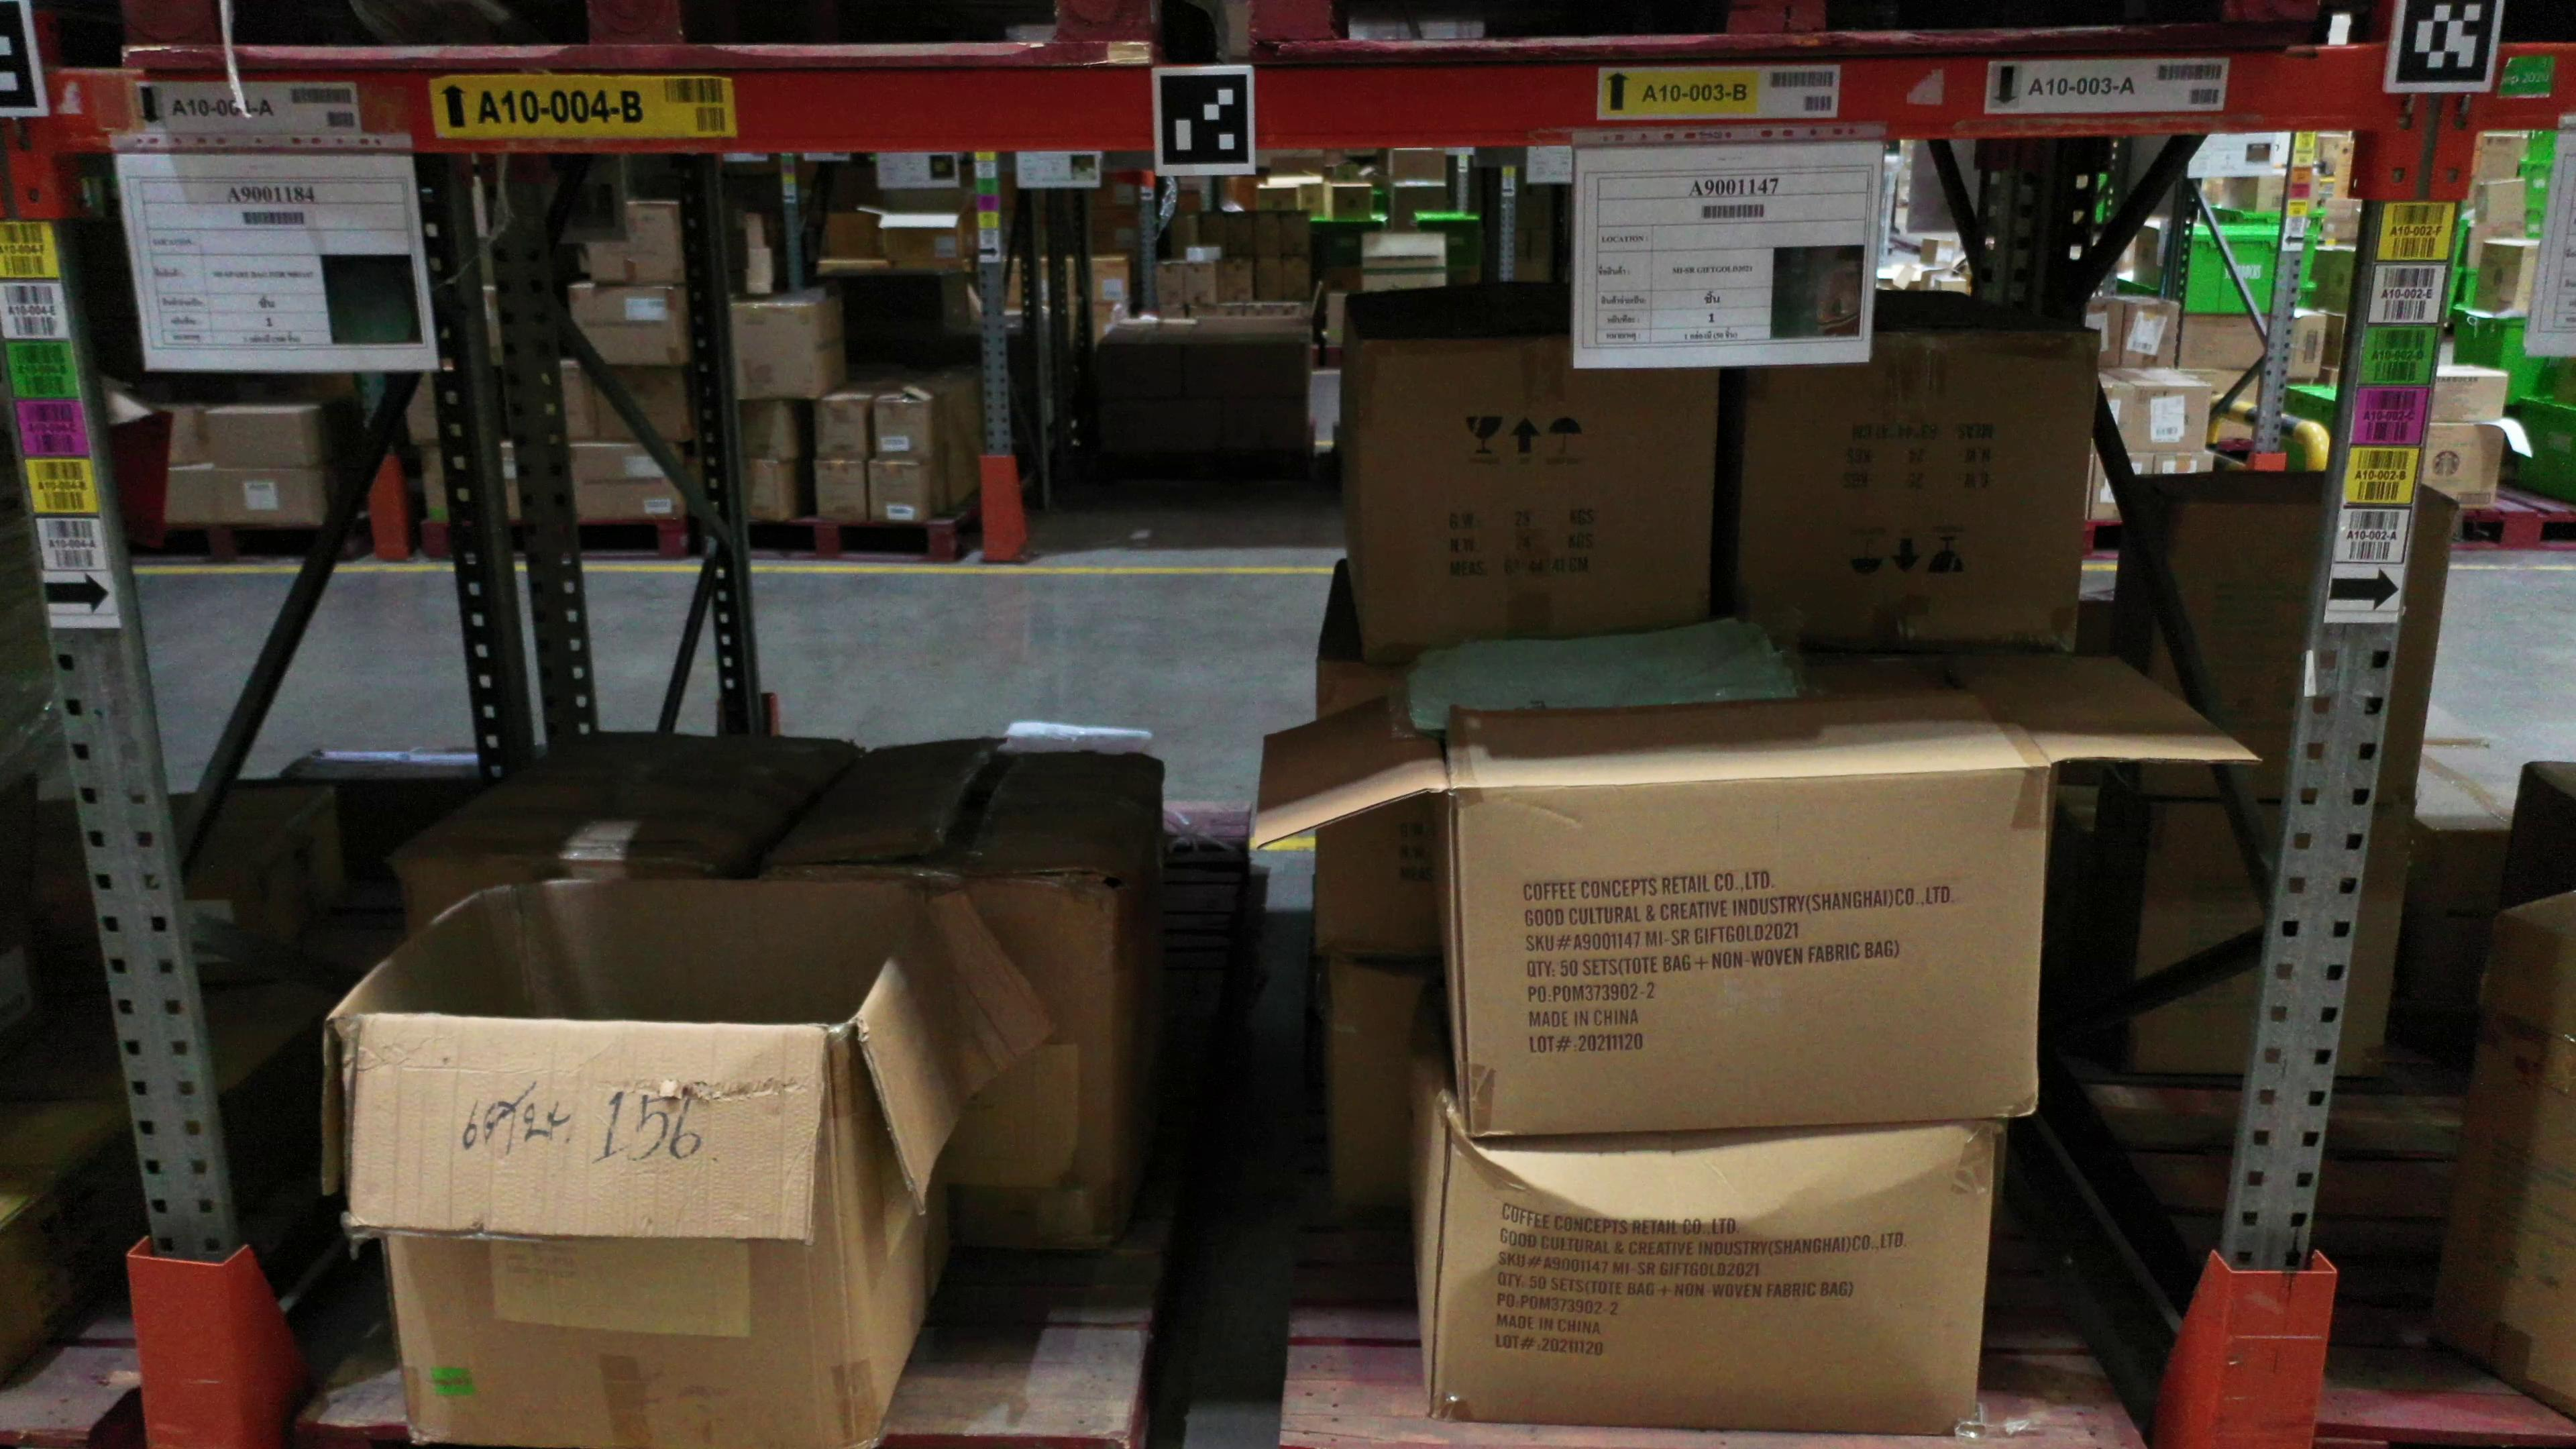-: (345, 1017, 865, 1449), (1449, 763, 2045, 1132), (1424, 1125, 2001, 1440), (1734, 331, 2104, 655), (1364, 333, 1723, 653)
box: (2130, 499, 2457, 807), (2120, 803, 2422, 1077)
